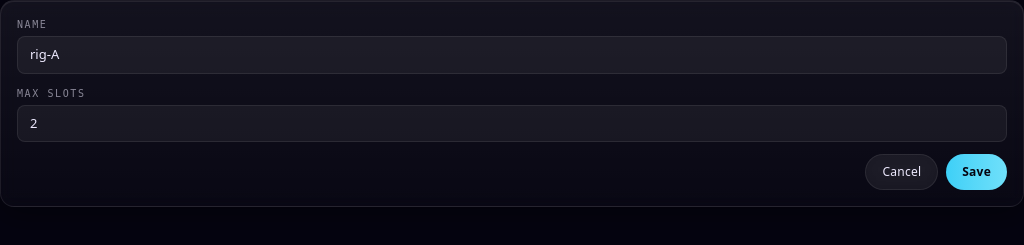
rejects max slots value 0
The image size is (1024, 245).
Replace the text in the number field labelled "Max slots" with "0": (512,123) [17,104,1007,142]
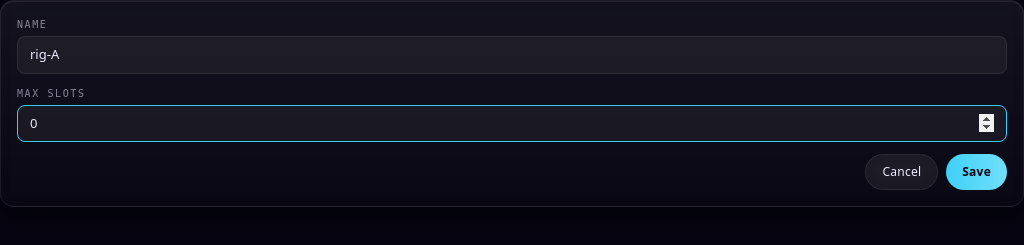
Click the button "Save": (977,172) [946,154,1007,190]
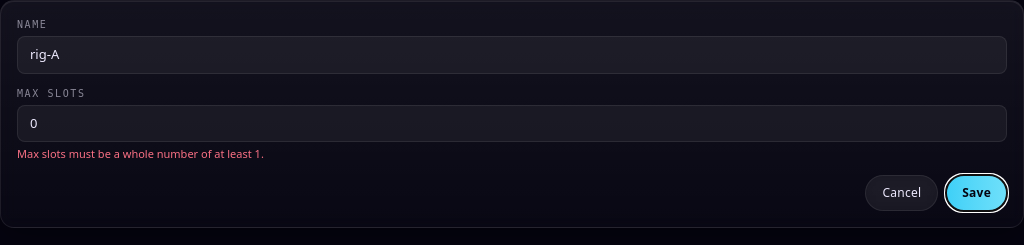
Check: the text "Max slots must be a whole number of at least 1." is shown, box [17,146,264,161]
